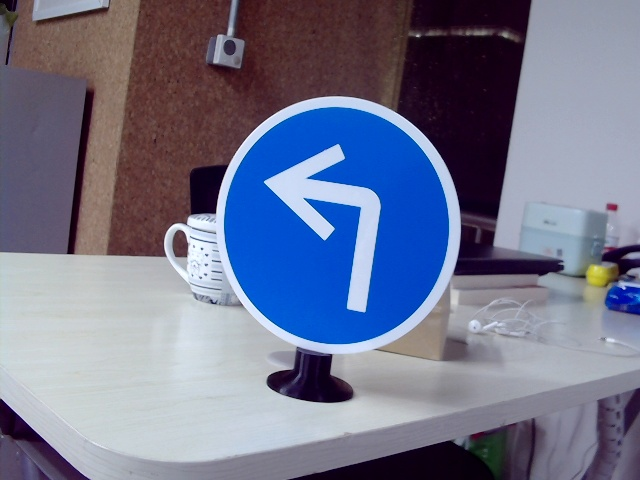turn_left: (261, 139, 379, 313)
